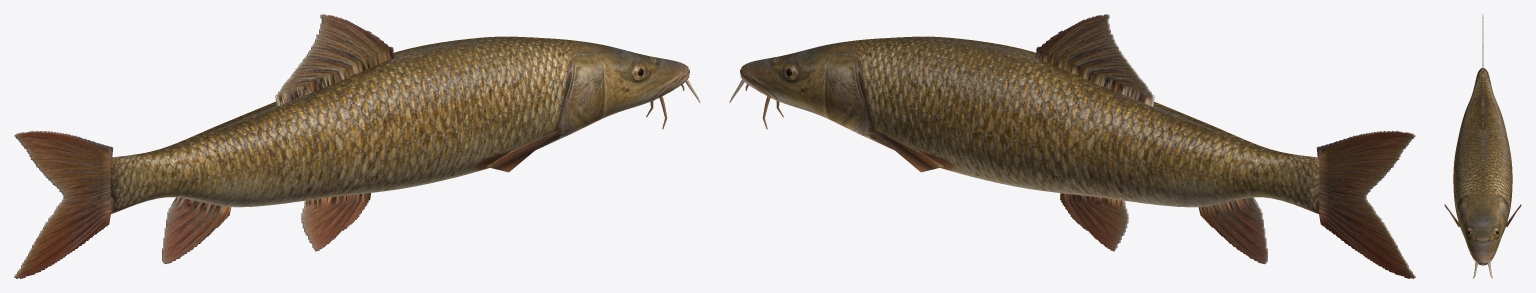
File: barbel.glb
3 renders of one model, left to right at view 1: azimuth 30°, elevation 25°; view 2: azimuth 150°, elevation 25°; view 3: azimuth 270°, elevation 25°, orthographic. The views are drawn at different scales.
Visible parts, largest first — view 1: barbel_realistic.003; view 2: barbel_realistic.003; view 3: barbel_realistic.003.
Boxes of the visible parts, left/top/right/bottom form: barbel_realistic.003: left=14, top=14, right=700, bottom=278; barbel_realistic.003: left=729, top=14, right=1415, bottom=278; barbel_realistic.003: left=1444, top=14, right=1521, bottom=278.
Size of the model in its own units: 1 by 0.3309 by 0.1699.
Materials: 3 (3 with a texture image).
